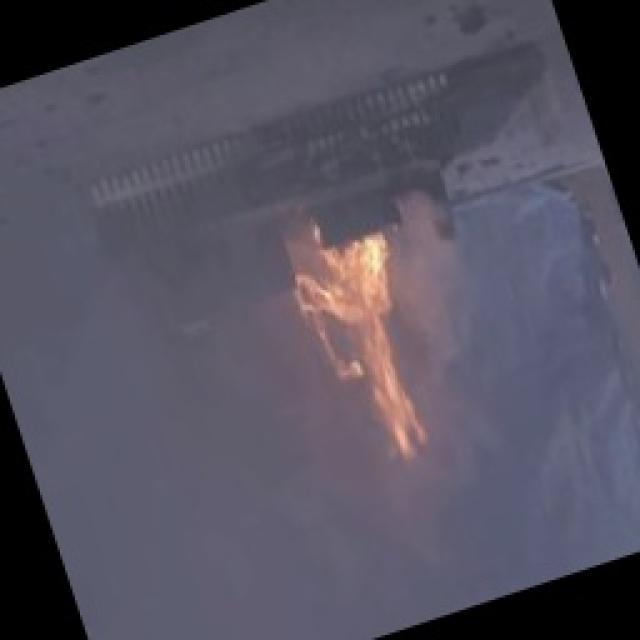fire: (279, 204, 466, 491)
